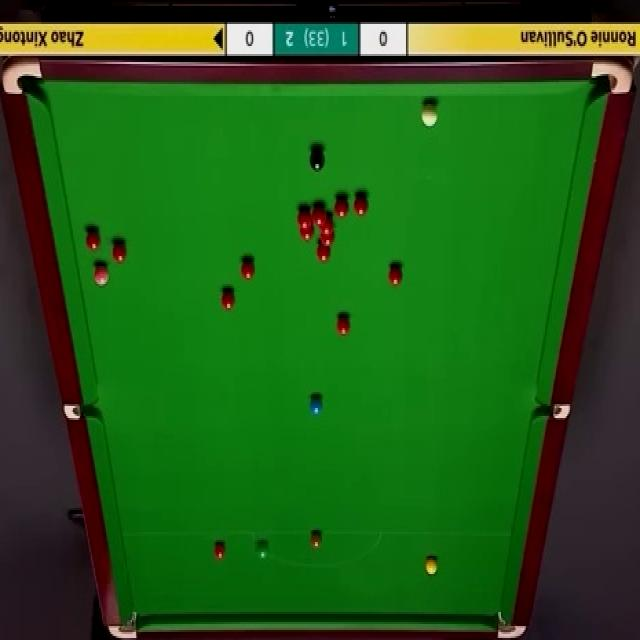black-ball: (309, 147, 325, 173)
blue-ball: (310, 398, 323, 416)
brown-ball: (310, 531, 323, 548)
green-ball: (256, 540, 268, 558)
pink-ball: (92, 262, 110, 286)
red-ball: (240, 256, 256, 284), (84, 229, 102, 251), (111, 241, 127, 263), (312, 201, 326, 226), (388, 265, 404, 286), (296, 208, 312, 229), (334, 197, 349, 219), (353, 195, 368, 217), (337, 314, 350, 338), (212, 540, 226, 560), (300, 224, 314, 242), (222, 290, 234, 310), (321, 214, 334, 232), (318, 242, 329, 263), (321, 227, 334, 243)
white-ball: (419, 104, 439, 130)
yellow-ball: (426, 555, 438, 576)
